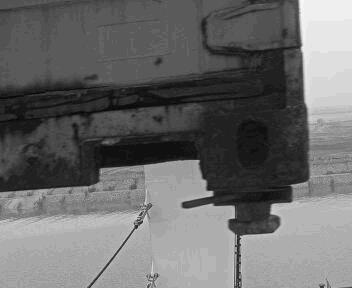twist_lock_1: (295, 119, 317, 136)
